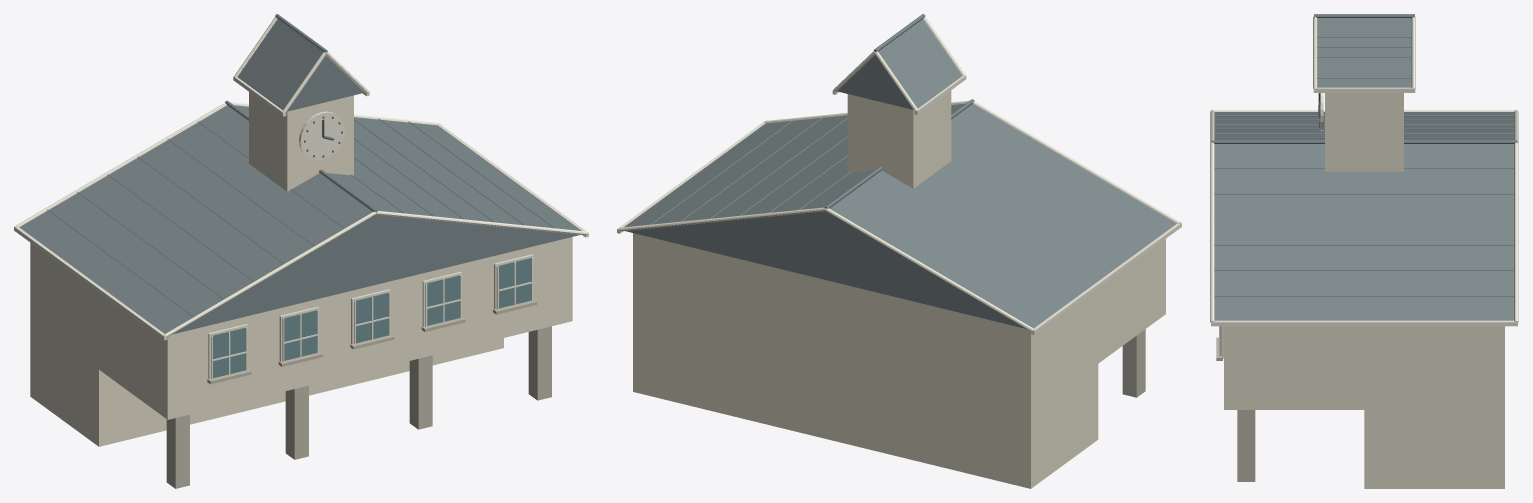
3 views of the same model, side by side, from view 1: azimuth 30°, elevation 25°; view 2: azimuth 150°, elevation 25°; view 3: azimuth 270°, elevation 25° (orthographic). The views are drawn at different scales.
Bounding box in the file's own units: 17.83 × 14.66 × 10.95.
